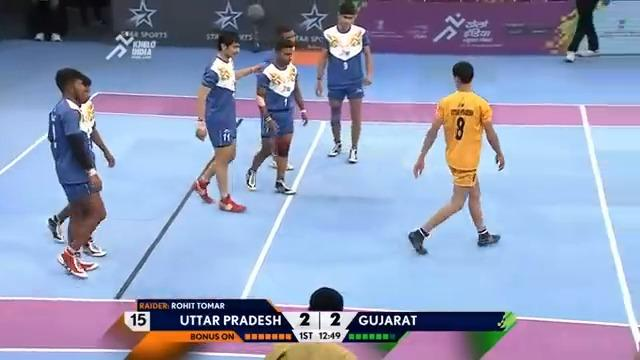Player: (46, 66, 115, 278), (192, 30, 264, 212), (245, 36, 308, 194), (314, 0, 373, 163)
Raider: (407, 60, 505, 255)
referee: (26, 0, 67, 42)
